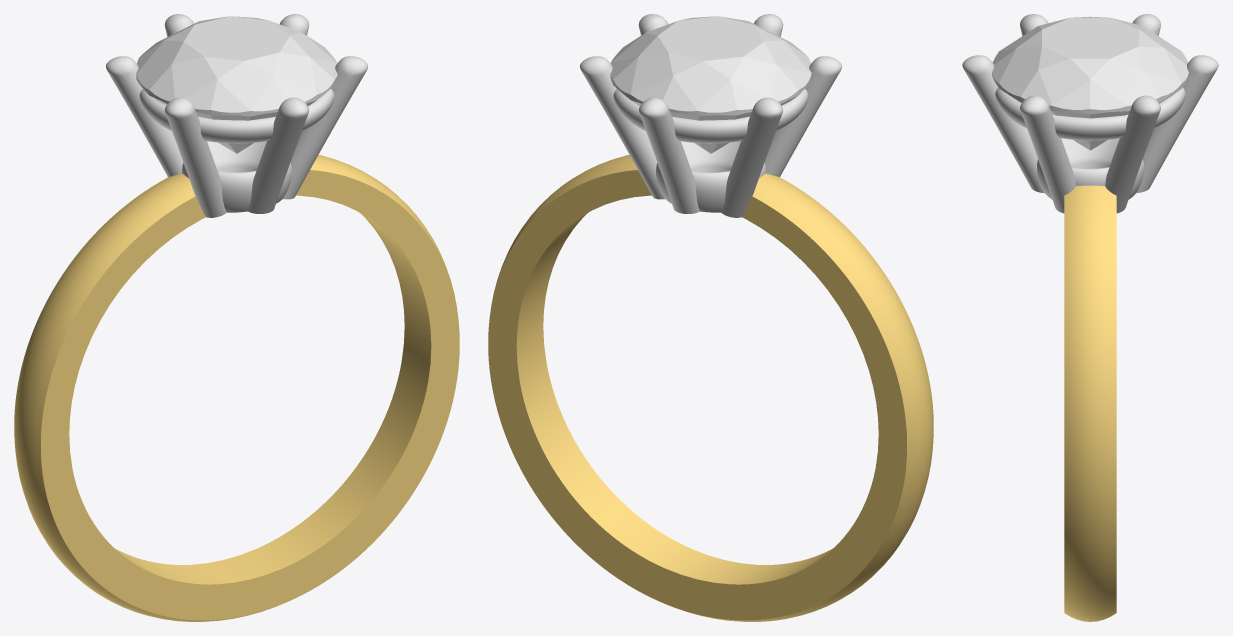
Rendered from MalloryV26prong_blender.glb.
3 views of the same model, side by side, from view 1: azimuth 30°, elevation 25°; view 2: azimuth 150°, elevation 25°; view 3: azimuth 270°, elevation 25° (orthographic). The views are drawn at different scales.
Visible parts, largest first — view 1: V2 Mallory YG for 3d model, V2 Mallory PT for 3d model, Mallory dia for 3d model; view 2: V2 Mallory YG for 3d model, V2 Mallory PT for 3d model, Mallory dia for 3d model; view 3: V2 Mallory YG for 3d model, V2 Mallory PT for 3d model, Mallory dia for 3d model.
Part boxes in pixels (x1,y1,x2,y2): V2 Mallory YG for 3d model: [14, 155, 459, 621]; V2 Mallory PT for 3d model: [106, 14, 367, 217]; Mallory dia for 3d model: [136, 16, 337, 153]; V2 Mallory YG for 3d model: [488, 155, 933, 621]; V2 Mallory PT for 3d model: [580, 14, 841, 217]; Mallory dia for 3d model: [610, 16, 811, 153]; V2 Mallory YG for 3d model: [1064, 185, 1116, 621]; V2 Mallory PT for 3d model: [962, 14, 1218, 213]; Mallory dia for 3d model: [992, 16, 1188, 150].
Size of the model in its own units: 18.73 by 23.78 by 9.84.
